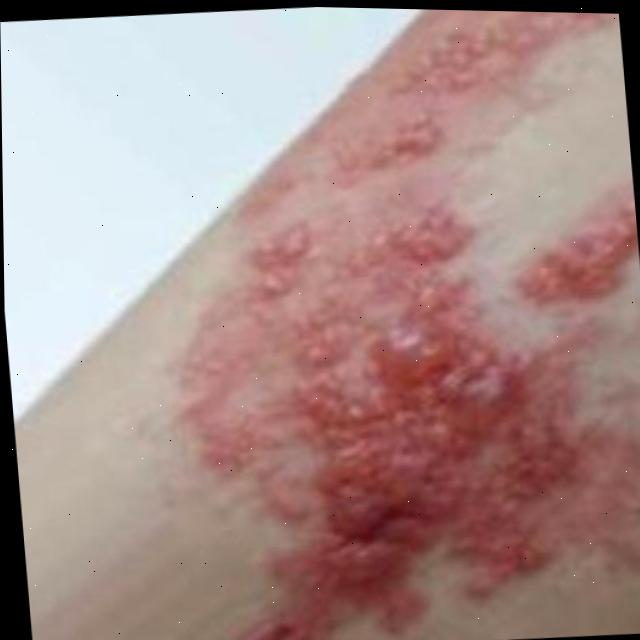Shingles: (152, 3, 640, 640)
